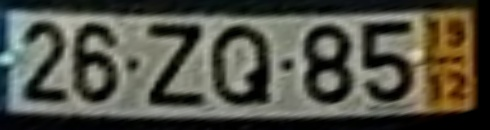2: (18, 16, 73, 104)
5: (359, 19, 416, 106)
6: (69, 19, 126, 108)
8: (298, 21, 360, 107)
Q: (209, 22, 276, 109)
Z: (145, 22, 208, 107)
